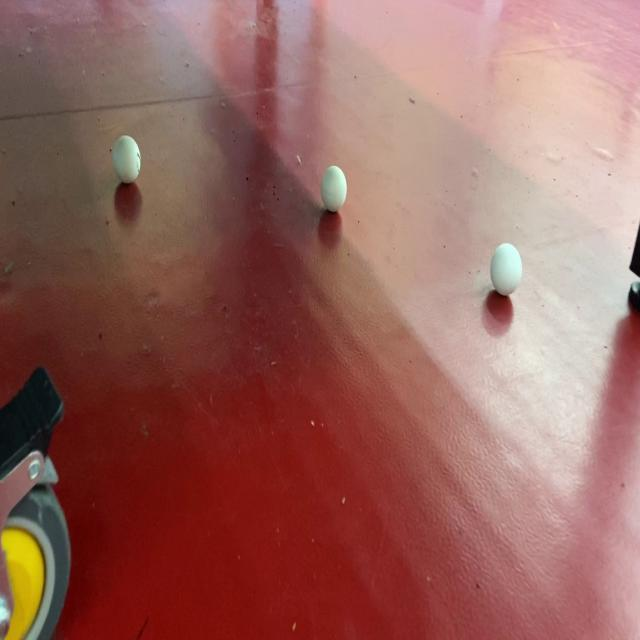ping-pong-ball: (488, 242, 524, 298), (112, 133, 142, 186), (320, 163, 348, 216)
